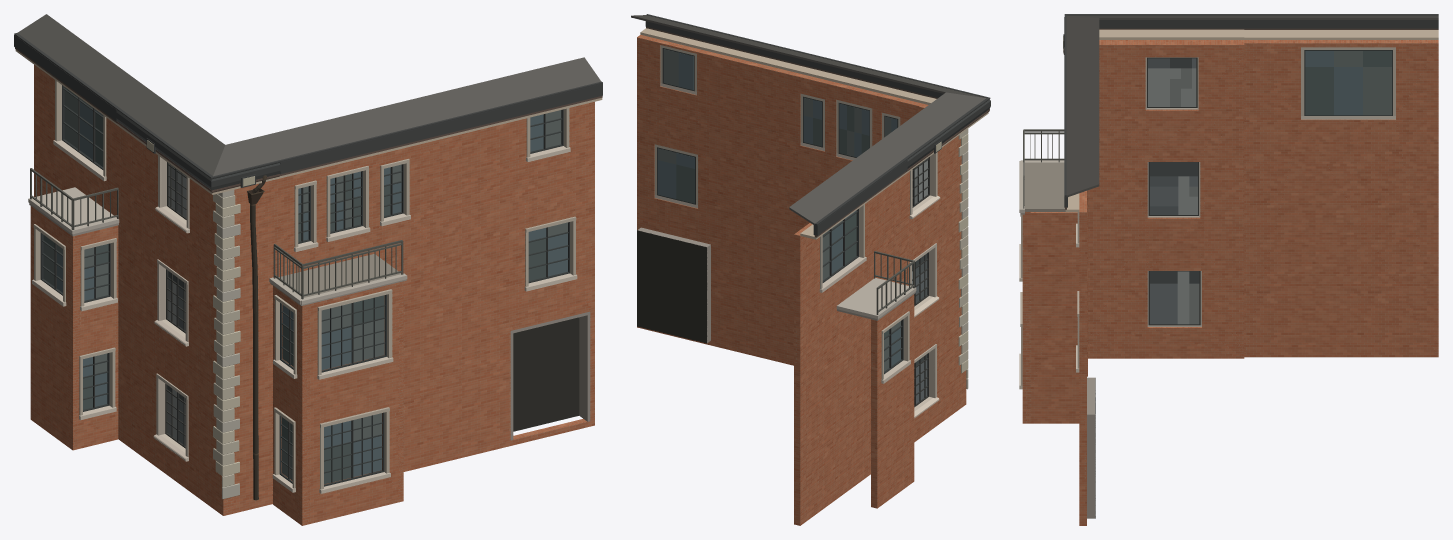
The model's file is jingan-may-lee-court-no14-canted-bay-lod.glb.
3 renders of one model, left to right at view 1: azimuth 30°, elevation 25°; view 2: azimuth 150°, elevation 25°; view 3: azimuth 270°, elevation 25°, orthographic. The views are drawn at different scales.
Visible parts, largest first — view 1: 美丽园14号园侧砖墙、折角钢窗与露台; view 2: 美丽园14号园侧砖墙、折角钢窗与露台; view 3: 美丽园14号园侧砖墙、折角钢窗与露台.
Part boxes in pixels (x1,y1,x2,y2): 美丽园14号园侧砖墙、折角钢窗与露台: (14,14,602,525); 美丽园14号园侧砖墙、折角钢窗与露台: (631,14,990,525); 美丽园14号园侧砖墙、折角钢窗与露台: (1019,14,1438,525).
Bounding box in the file's own units: 12.67 × 10.38 × 11.54.
Materials: 35 (1 with a texture image).
